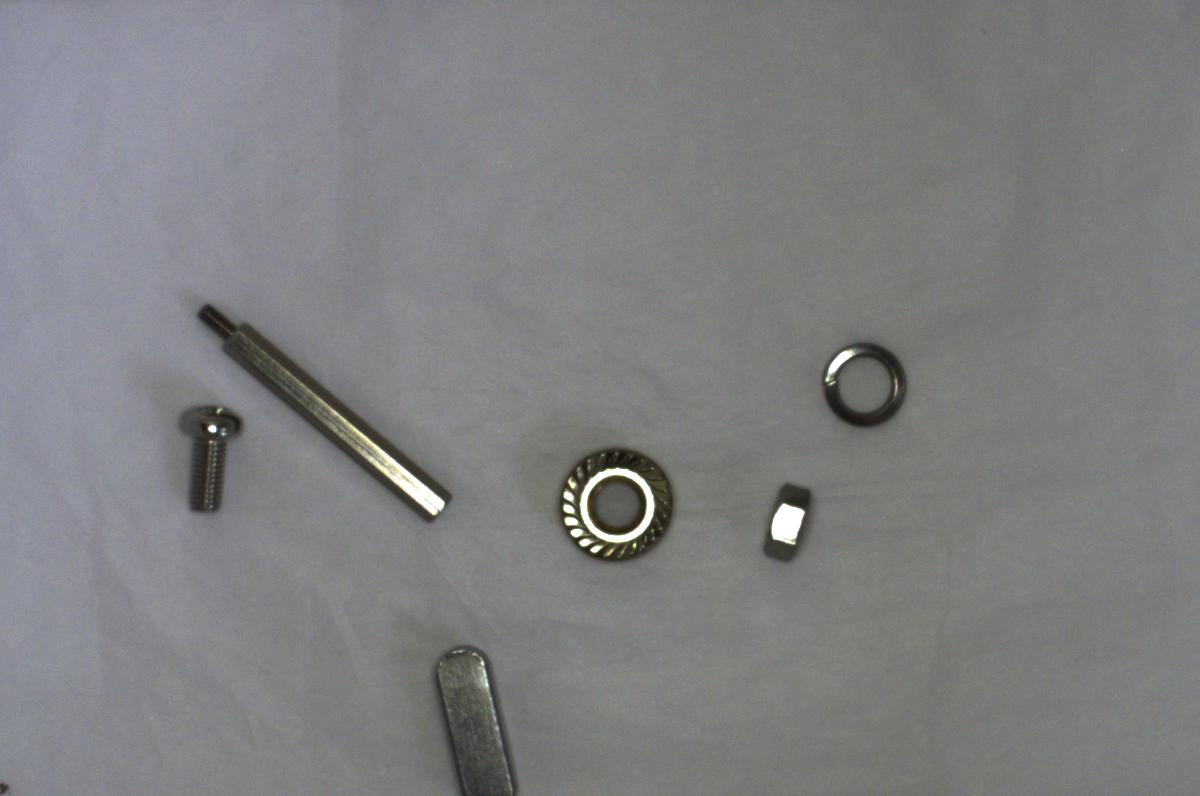Flange nut: (551, 438, 687, 573)
Hexagon nut: (742, 473, 818, 565)
Hexagonal steel column: (191, 298, 452, 522)
Keybar: (419, 633, 531, 795)
Round head screw: (175, 398, 245, 510)
Spring washer: (814, 342, 912, 430)
